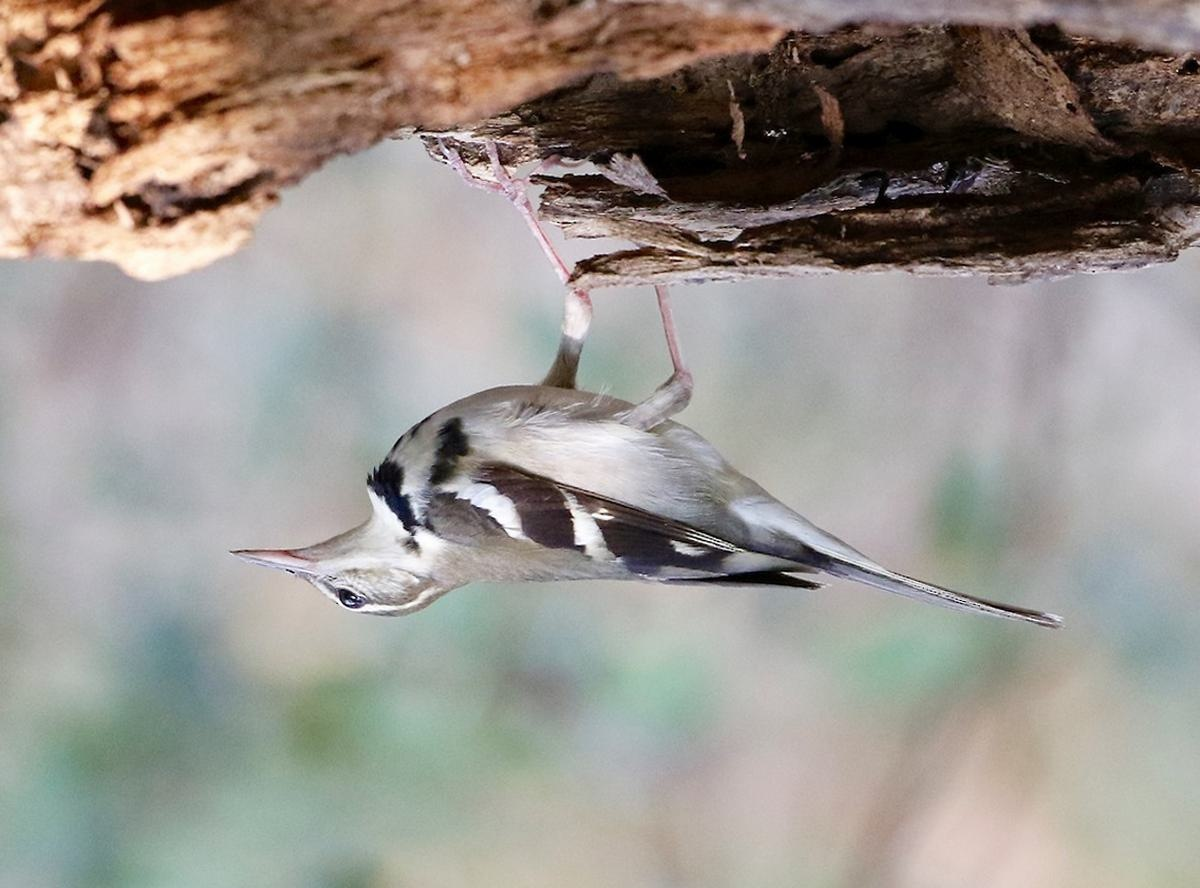wagtail: (213, 296, 1038, 657)
